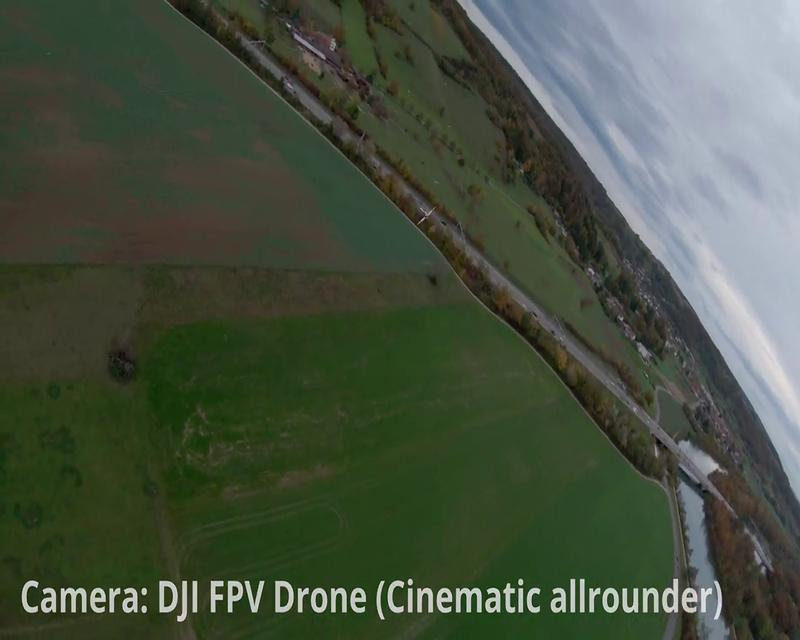UAV: (415, 205, 437, 227)
